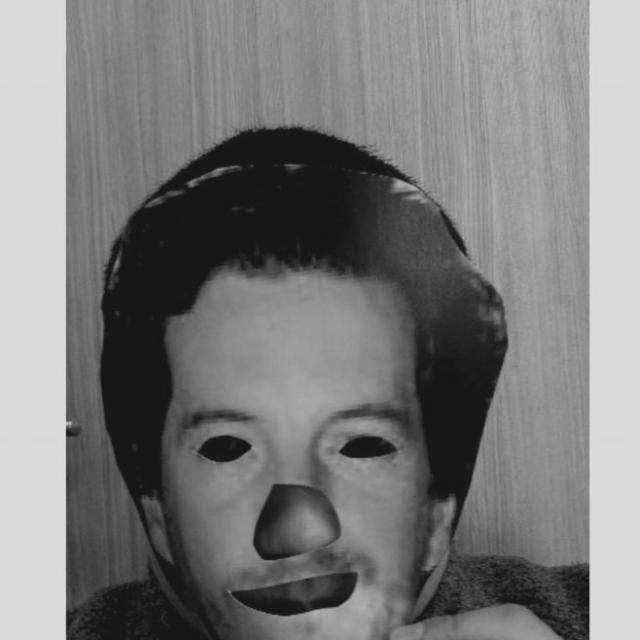fake: (97, 164, 513, 640)
